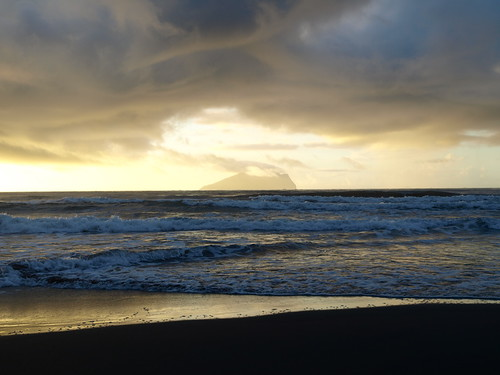turtleIsland: (197, 172, 298, 193)
